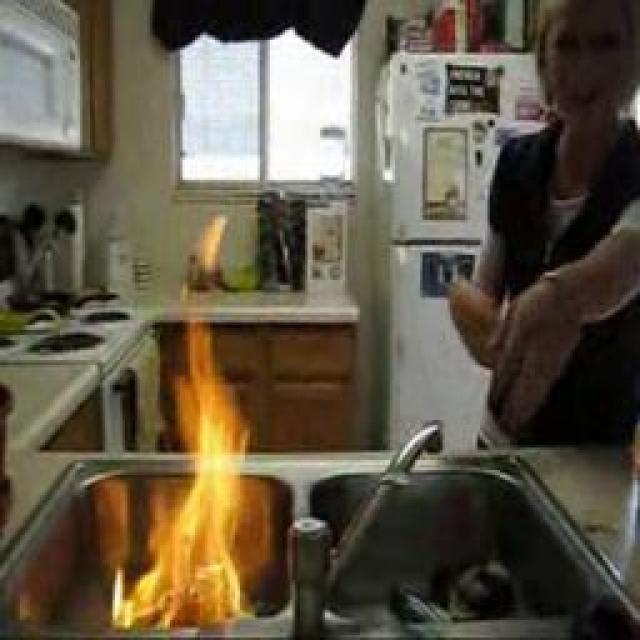Fire: (118, 306, 250, 629)
